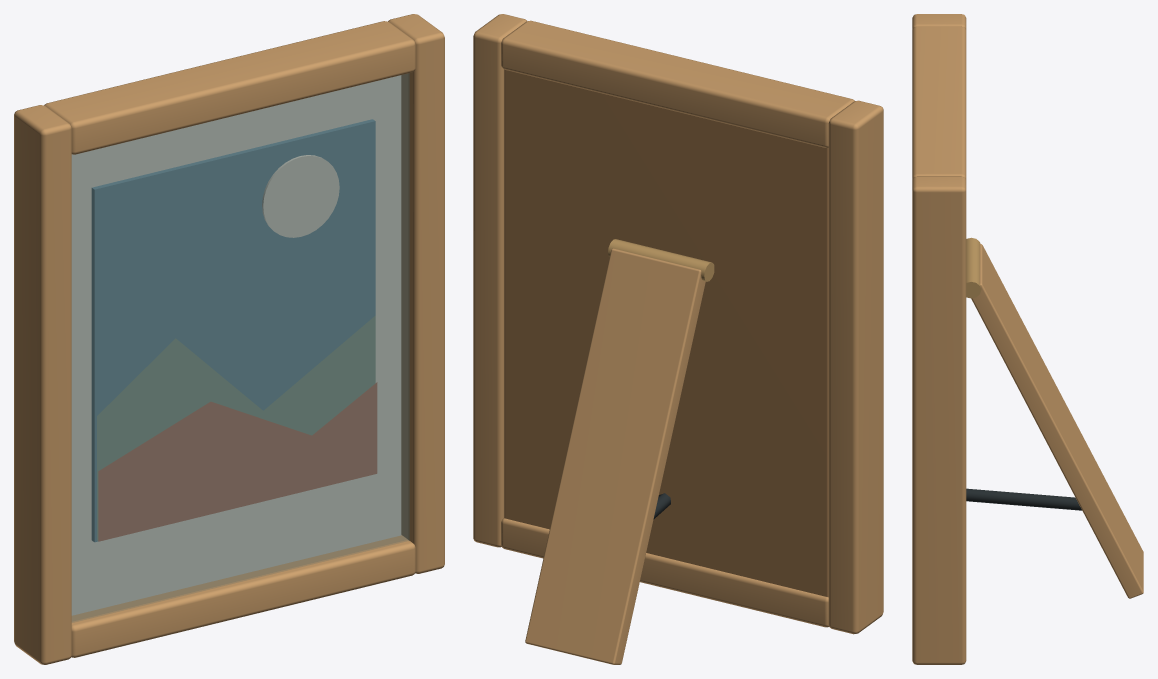
File: standing-photo-frame.glb
3 renders of one model, left to right at view 1: azimuth 30°, elevation 25°; view 2: azimuth 150°, elevation 25°; view 3: azimuth 270°, elevation 25°, orthographic. The views are drawn at different scales.
Visible parts, largest first — view 1: catalog_surface_RealismUV, catalog_surface_UVMap; view 2: catalog_surface_RealismUV; view 3: catalog_surface_RealismUV, catalog_surface_UVMap.
Boxes of the visible parts, x1,y1,x2,y2 form: catalog_surface_RealismUV: [14, 14, 444, 664]; catalog_surface_UVMap: [72, 73, 409, 622]; catalog_surface_RealismUV: [473, 14, 883, 664]; catalog_surface_RealismUV: [912, 14, 1143, 664]; catalog_surface_UVMap: [966, 488, 1081, 510].
Bounding box in the file's own units: 0.18 × 0.228 × 0.1.
